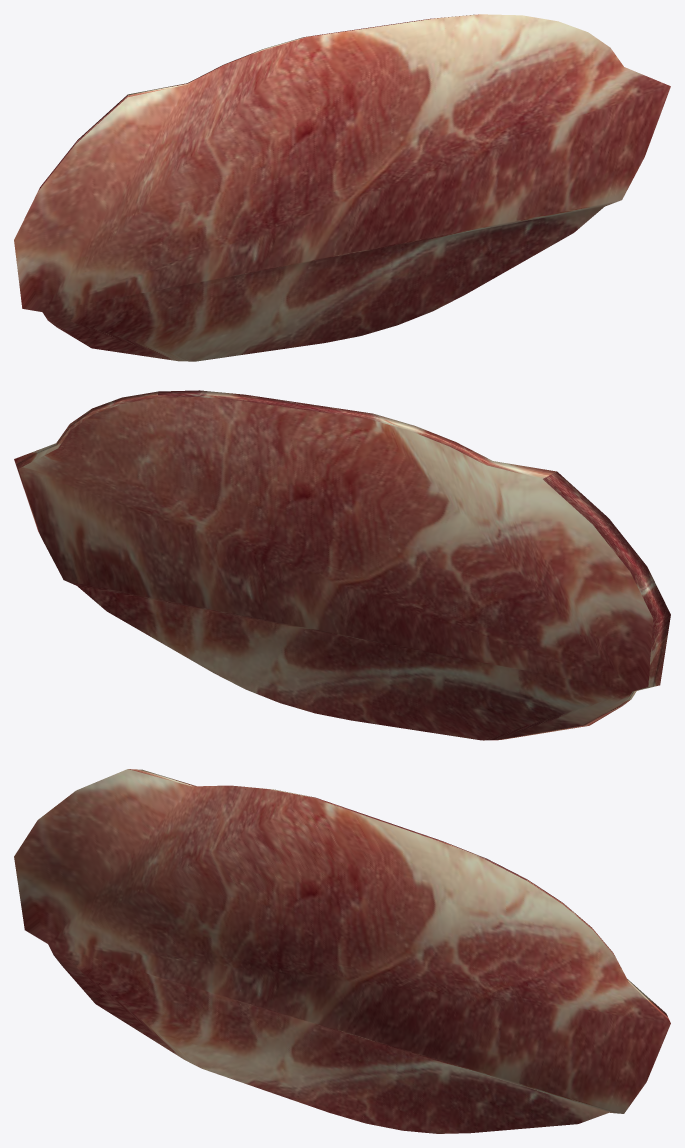
The model's file is pastırma dilim.fbx.
3 renders of one model, top to bottom at view 1: azimuth 30°, elevation 25°; view 2: azimuth 150°, elevation 25°; view 3: azimuth 330°, elevation 25°, orthographic.
Visible parts, largest first — view 1: Sphere.006; view 2: Sphere.006; view 3: Sphere.006.
Part boxes in pixels (x1,y1,x2,y2): Sphere.006: (14,14,670,361); Sphere.006: (14,390,670,740); Sphere.006: (14,769,670,1133).
Bounding box in the file's own units: 358 × 163 × 8.43.
Materials: 1 (1 with a texture image).
